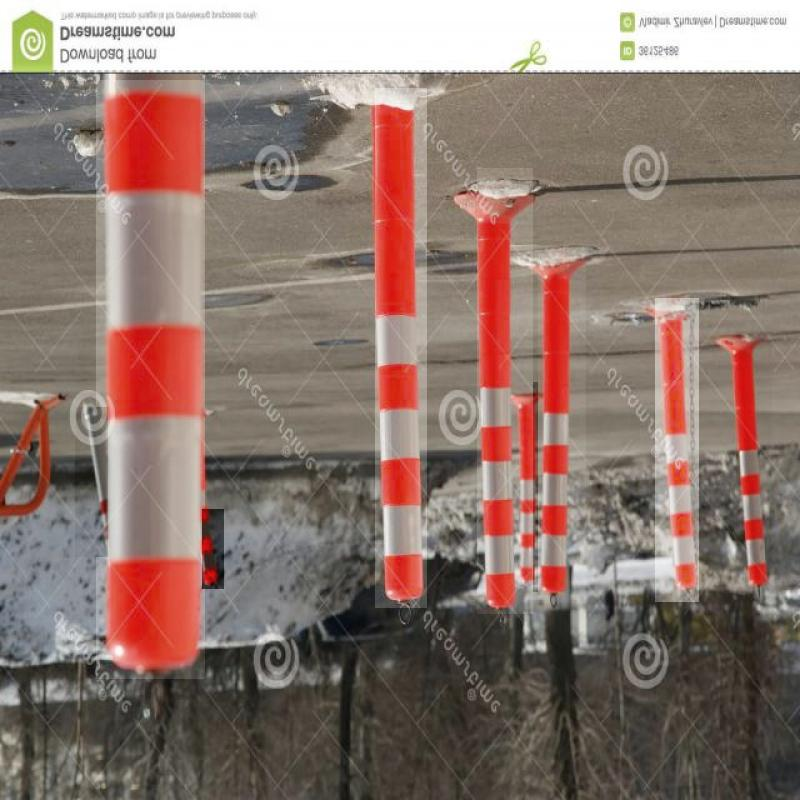pillar: (96, 80, 205, 679), (375, 88, 427, 608), (477, 168, 534, 614), (538, 259, 586, 603), (655, 298, 699, 602), (736, 330, 772, 601), (75, 407, 108, 557), (521, 382, 539, 592), (202, 509, 224, 589)
